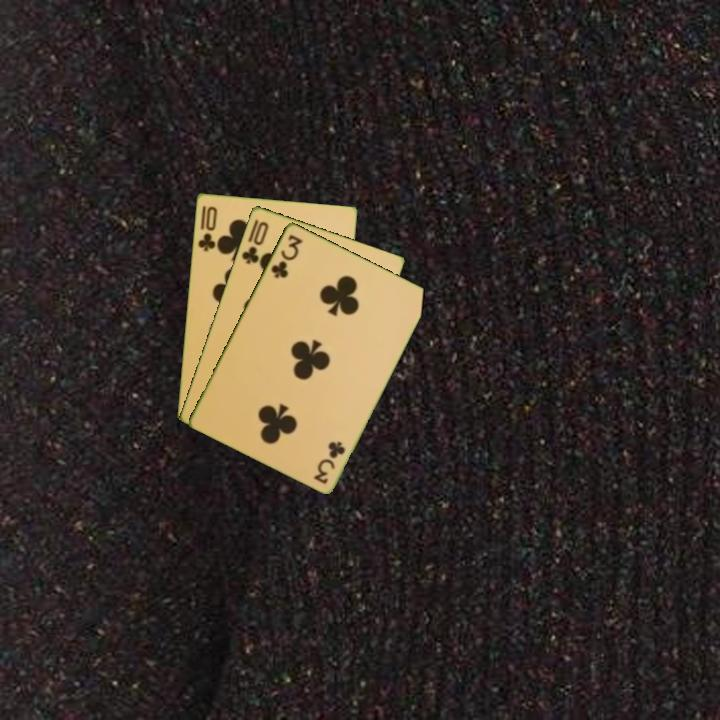10c: (238, 218, 271, 267), (194, 202, 220, 254)
3c: (267, 231, 305, 281), (310, 437, 348, 487)
